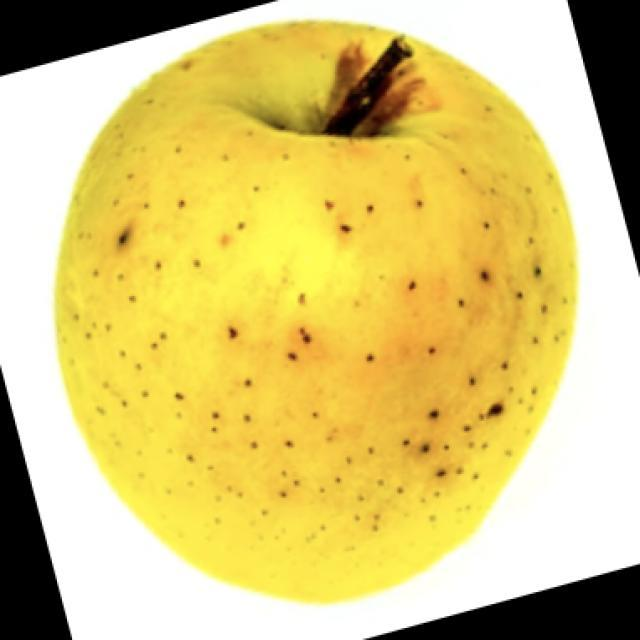Rotten: (77, 27, 550, 608)
